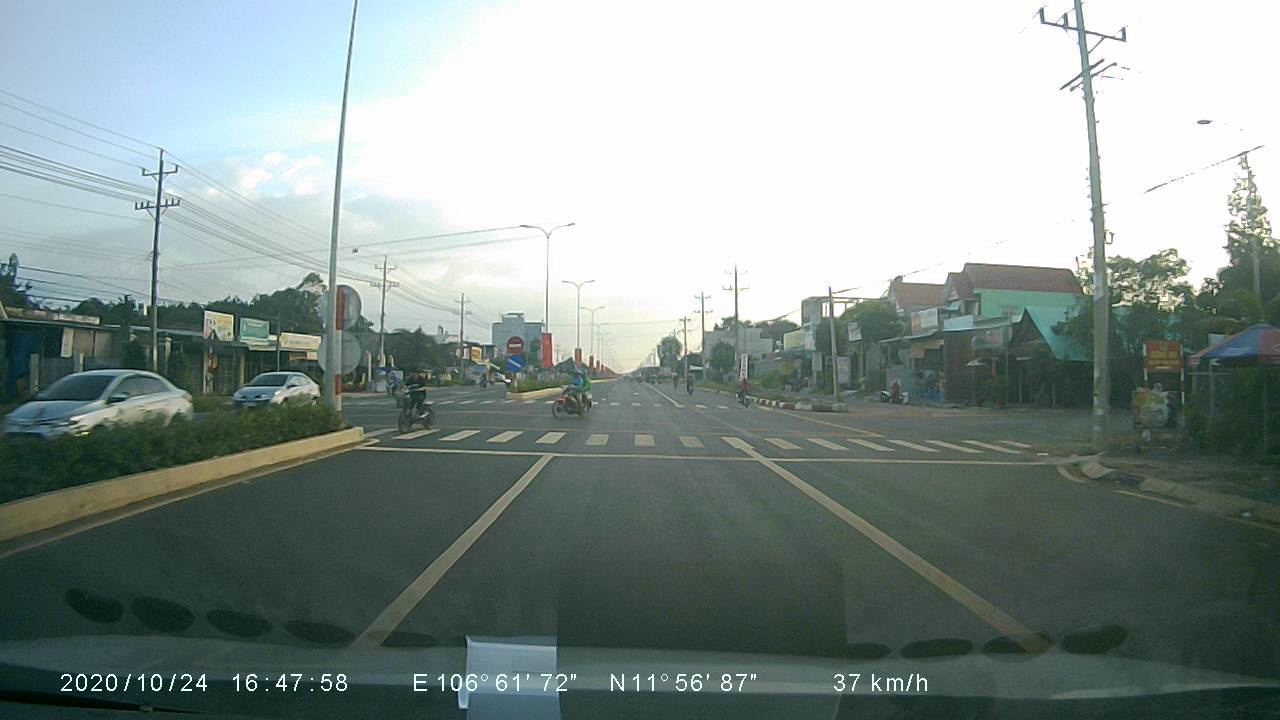Cam di nguoc chieu: (506, 332, 525, 351)
Huong di phai re phai: (505, 354, 524, 374)
